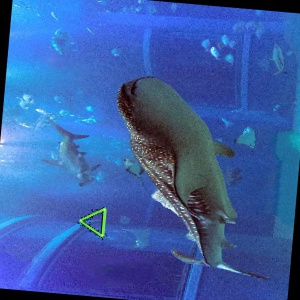triangle: (78, 205, 111, 241)
